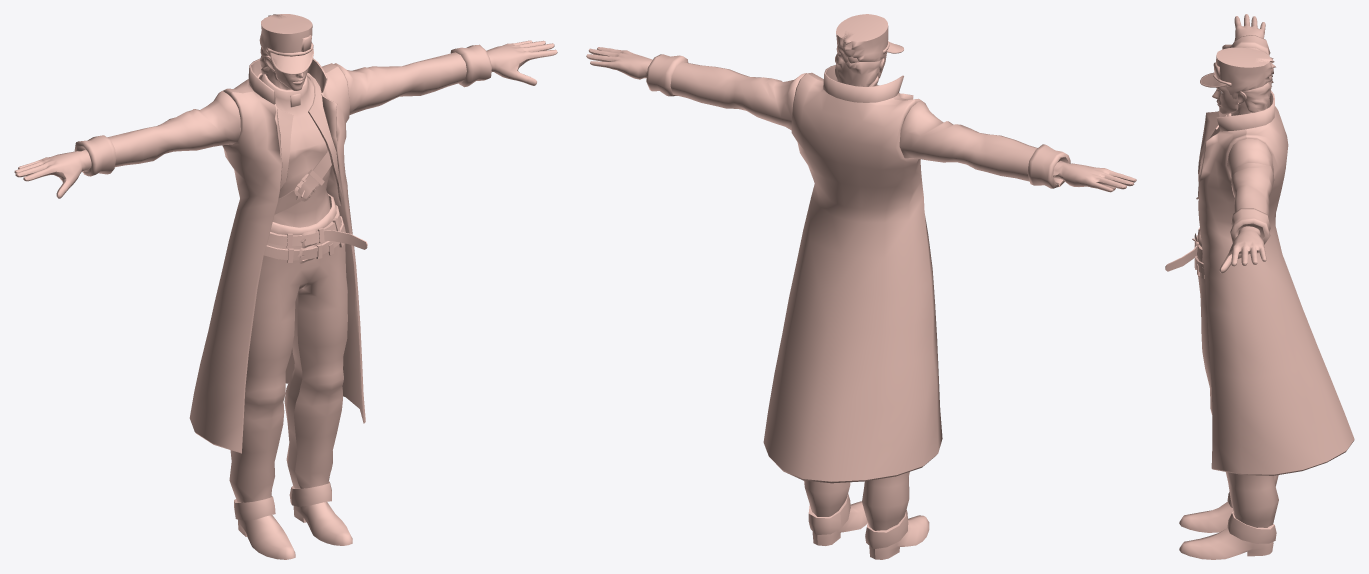
File: jotaro.fbx
3 views of the same model, side by side, from view 1: azimuth 30°, elevation 25°; view 2: azimuth 150°, elevation 25°; view 3: azimuth 270°, elevation 25° (orthographic). The views are drawn at different scales.
Parts seen in each view (by area): view 1: jotarodiu; view 2: jotarodiu; view 3: jotarodiu.
Part boxes in pixels (x1,y1,x2,y2): jotarodiu: [14, 14, 557, 559]; jotarodiu: [586, 14, 1136, 559]; jotarodiu: [1165, 14, 1354, 559].
Size of the model in its own units: 7818 by 7066 by 2504.
